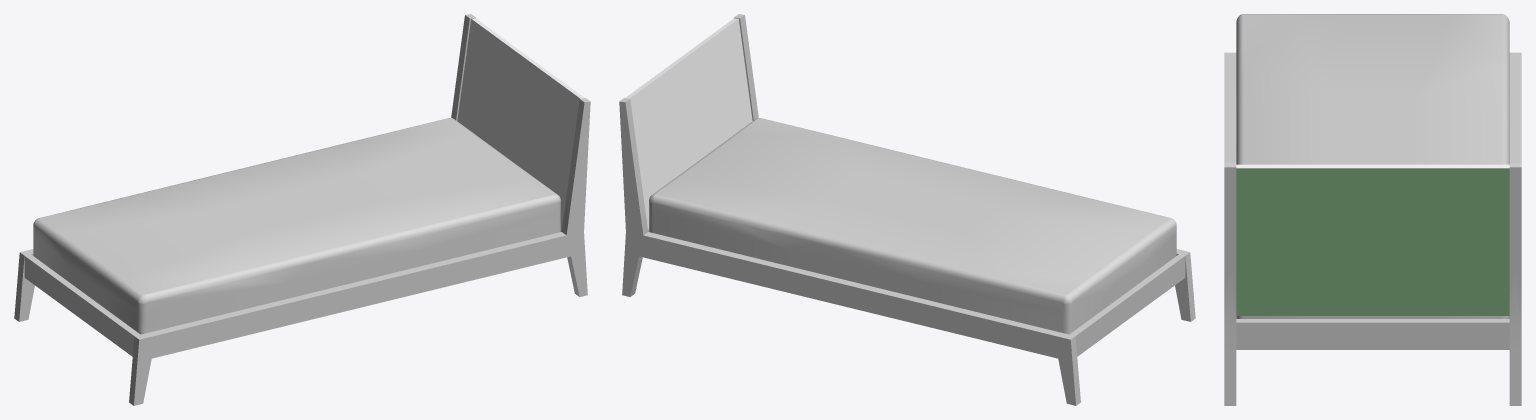
File: lettoS.glb
3 renders of one model, left to right at view 1: azimuth 30°, elevation 25°; view 2: azimuth 150°, elevation 25°; view 3: azimuth 270°, elevation 25°, orthographic. The views are drawn at different scales.
Parts seen in each view (by area): view 1: M1905_MINT_Bed_900x2160.dxf; view 2: M1905_MINT_Bed_900x2160.dxf; view 3: M1905_MINT_Bed_900x2160.dxf.
Part boxes in pixels (x1=…): M1905_MINT_Bed_900x2160.dxf: x1=14, y1=14, x2=590, y2=405; M1905_MINT_Bed_900x2160.dxf: x1=619, y1=14, x2=1195, y2=405; M1905_MINT_Bed_900x2160.dxf: x1=1224, y1=14, x2=1521, y2=405.
Size of the model in its own units: 2.17 by 0.88 by 0.985.
